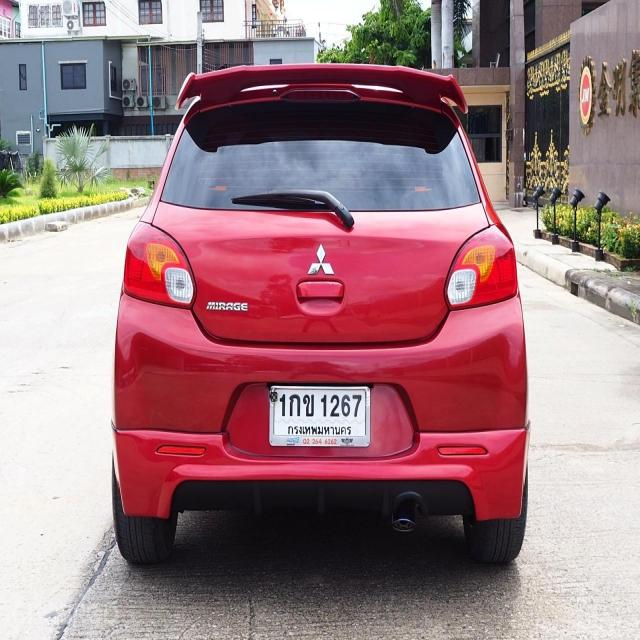license_plate: (267, 381, 372, 448)
